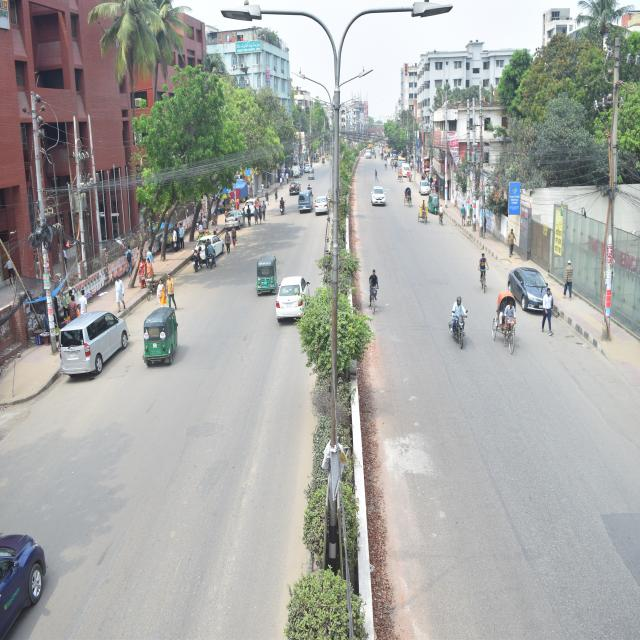car: (48, 287, 164, 394), (0, 501, 63, 639), (496, 238, 566, 321), (259, 260, 328, 340), (178, 212, 241, 276), (369, 181, 401, 240), (217, 199, 249, 242), (240, 187, 274, 226), (315, 188, 339, 227), (401, 162, 422, 193), (418, 177, 440, 201), (361, 145, 376, 170), (302, 160, 316, 186), (286, 177, 302, 197)
microbus: (298, 184, 318, 227)
motorbike: (432, 278, 478, 372), (186, 237, 202, 289), (202, 229, 220, 268), (278, 188, 288, 222), (308, 177, 318, 195)
pickup-van: (285, 156, 307, 183)
